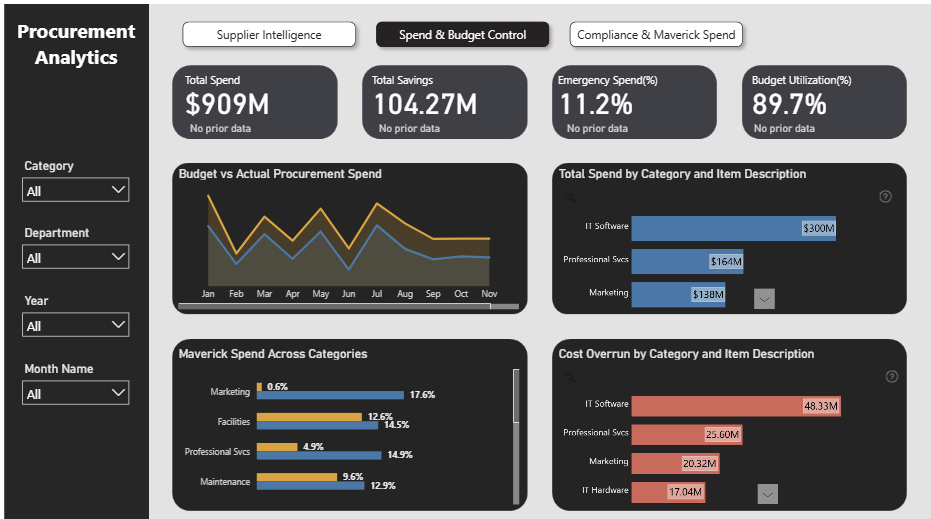

What the dashboard file says about the page in this screenshot:
{"tool":"powerbi","page":{"name":"Spend & Budget Control","canvas":[1280,720],"ordinal":1},"visuals":[{"type":"cardVisual","fields":{"Data":["_Key_Measures.Total Spend"]},"box":[245,93.6,206.5,90.8],"z":0},{"type":"cardVisual","fields":{"Data":["_Key_Measures.Total Savings"]},"box":[501,93.6,212,90.8],"z":1000},{"type":"cardVisual","fields":{"Data":["_Key_Measures.Emergency Spend(%)"]},"box":[757,93.6,217.5,90.8],"z":2000},{"type":"areaChart","title":"Budget vs Actual Procurement Spend","fields":{"Category":["Calendar.Month Short"],"Y":["_Key_Measures.Total Spend","_Key_Measures.Total Budget"]},"box":[235.4,223,477.6,202.3],"z":3000},{"type":"clusteredBarChart","title":"Maverick Spend Across Categories","fields":{"Y":["_Key_Measures.Maverick Spend(%)"],"Series":["Data.Emergency"],"Category":["Data.Category"]},"box":[235.4,469.3,477.6,223],"z":4000},{"type":"cardVisual","fields":{"Data":["_Key_Measures.Budget Utilization(%)"]},"box":[1024,93.6,207.8,90.8],"z":6000},{"type":"cardVisual","fields":{"Data":["_Key_Measures.Total Spend Context"]},"box":[251.9,162.4,214.7,22],"z":7000},{"type":"cardVisual","fields":{"Data":["_Key_Measures.Total Savings Context"]},"box":[510.6,162.4,214.7,22],"z":8000},{"type":"cardVisual","fields":{"Data":["_Key_Measures.Emergency Spend Context"]},"box":[769.4,162.4,214.7,22],"z":9000},{"type":"cardVisual","fields":{"Data":["_Key_Measures.Budget Utilization Context"]},"box":[1026.8,162.4,214.7,22],"z":10000},{"type":"pageNavigator","box":[236.7,15.1,790,53.7],"z":11000},{"type":"slicer","fields":{"Values":["Data.Category"]},"box":[15.1,207.5,166.5,70.2],"z":12000},{"type":"slicer","fields":{"Values":["Data.Department"]},"box":[15.1,299.5,166.5,71.6],"z":13000},{"type":"slicer","fields":{"Values":["Calendar.Year"]},"box":[15.1,393,166.5,71.6],"z":14000},{"type":"slicer","fields":{"Values":["Calendar.Month Name"]},"box":[15.1,486.5,166.5,71.6],"z":15000},{"type":"textbox","box":[0,12.4,198.2,93.6],"z":16000},{"type":"ZoomChartsDrillDownComboBarProE77E4ED357DC402ABA005987437CF8","fields":{"Category":["Data.Category","Data.Item Description"],"Values1":["_Key_Measures.Total Spend"]},"box":[757,223,474.8,202.3],"z":17000},{"type":"ZoomChartsDrillDownComboBarProE77E4ED357DC402ABA005987437CF8","fields":{"Category":["Data.Category","Data.Item Description"],"Values1":["Sum(Data.Abs Savings)"]},"box":[757,469.3,484.5,223],"z":17001}]}

Visuals, with their boxes in screenshot pixels (x1, y1, x2, y2), scaled from the page's 1280x720 canvas onto the 931x519 screenshot:
cardVisual - _Key_Measures.Total Spend: 178:67:328:133
cardVisual - _Key_Measures.Total Savings: 364:67:519:133
cardVisual - _Key_Measures.Emergency Spend(%): 551:67:709:133
"Budget vs Actual Procurement Spend" areaChart: 171:161:519:307
"Maverick Spend Across Categories" clusteredBarChart: 171:338:519:499
cardVisual - _Key_Measures.Budget Utilization(%): 745:67:896:133
cardVisual - _Key_Measures.Total Spend Context: 183:117:339:133
cardVisual - _Key_Measures.Total Savings Context: 371:117:528:133
cardVisual - _Key_Measures.Emergency Spend Context: 560:117:716:133
cardVisual - _Key_Measures.Budget Utilization Context: 747:117:903:133
pageNavigator: 172:11:747:50
slicer - Data.Category: 11:150:132:200
slicer - Data.Department: 11:216:132:268
slicer - Calendar.Year: 11:283:132:335
slicer - Calendar.Month Name: 11:351:132:402
textbox: 0:9:144:76
ZoomChartsDrillDownComboBarProE77E4ED357DC402ABA005987437CF8 - Data.Category x Data.Item Description: 551:161:896:307
ZoomChartsDrillDownComboBarProE77E4ED357DC402ABA005987437CF8 - Data.Category x Data.Item Description: 551:338:903:499
